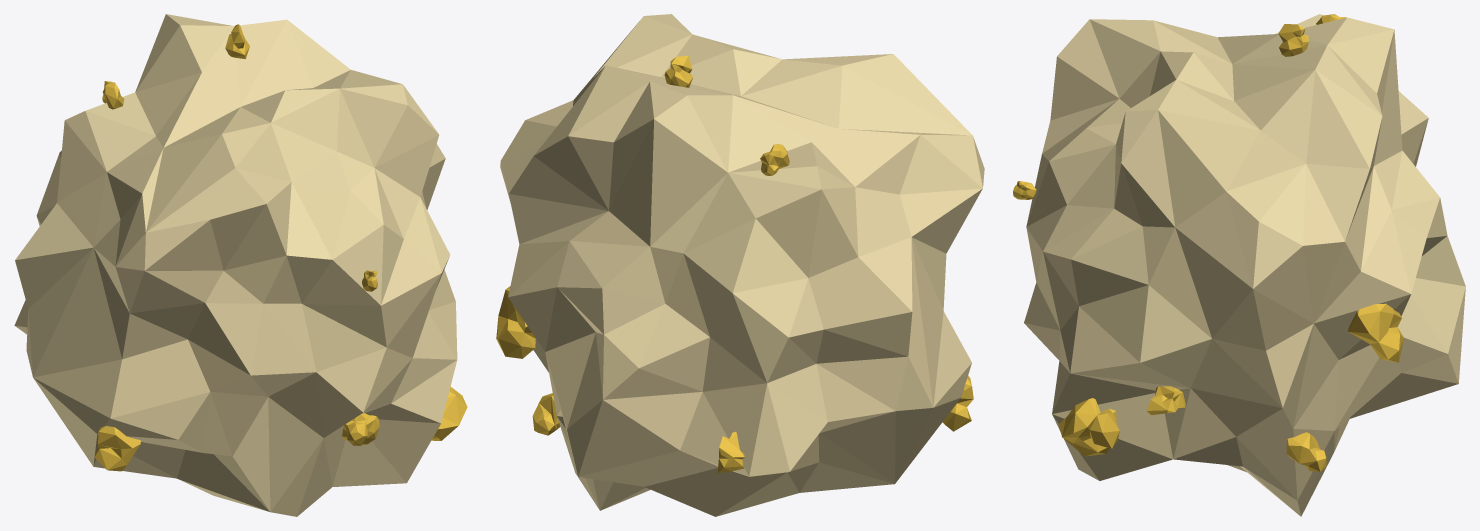
File: MetalOre (43).fbx
The picture shows the model from 3 angles, left to right: view 1: azimuth 30°, elevation 25°; view 2: azimuth 150°, elevation 25°; view 3: azimuth 270°, elevation 25°; orthographic projection. The views are drawn at different scales.
Parts seen in each view (by area): view 1: Asteroid398; view 2: Asteroid398; view 3: Asteroid398.
Part boxes in pixels (x1=…): Asteroid398: x1=14, y1=14, x2=467, y2=516; Asteroid398: x1=496, y1=14, x2=984, y2=516; Asteroid398: x1=1013, y1=14, x2=1465, y2=516.
Size of the model in its own units: 390 by 401 by 360.
